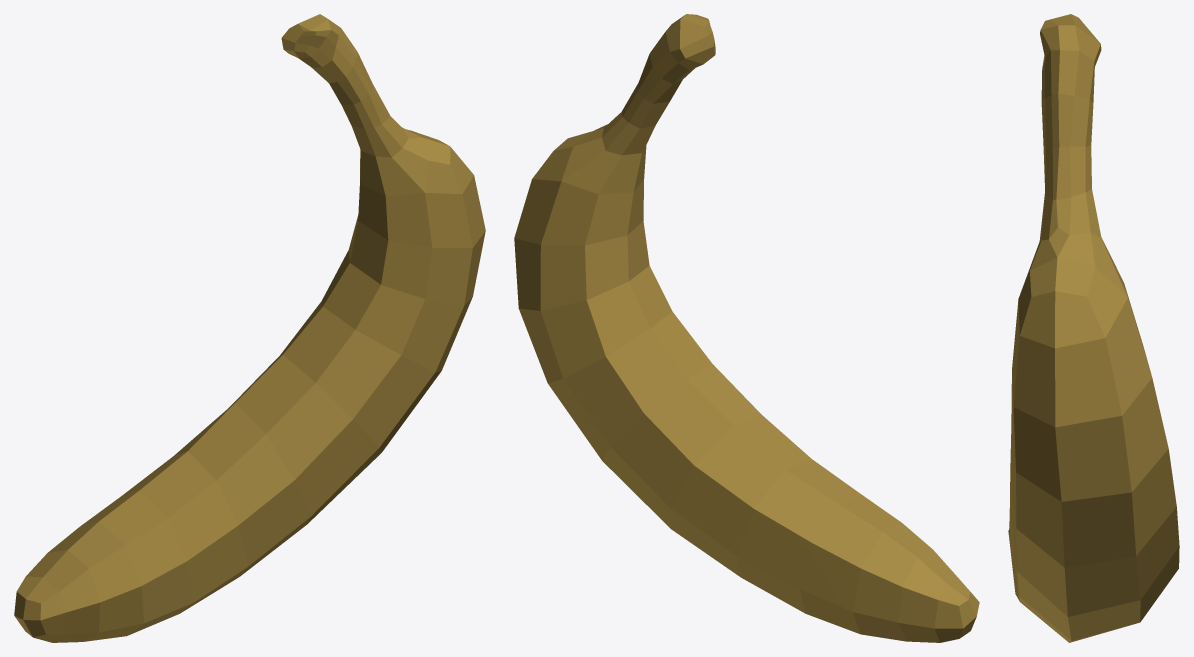
The model's file is food-Banana.glb.
The picture shows the model from 3 angles, left to right: view 1: azimuth 30°, elevation 25°; view 2: azimuth 150°, elevation 25°; view 3: azimuth 270°, elevation 25°; orthographic projection. The views are drawn at different scales.
Visible parts, largest first — view 1: Banana; view 2: Banana; view 3: Banana.
Part boxes in pixels (x1,y1,x2,y2): Banana: (14, 14, 485, 642); Banana: (514, 14, 979, 642); Banana: (1008, 14, 1179, 642).
Bounding box in the file's own units: 1.18 × 1.4 × 0.3094.
